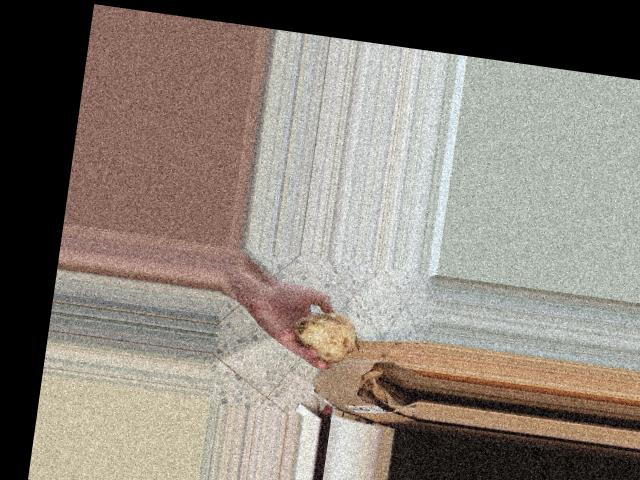onion: (288, 304, 364, 369)
